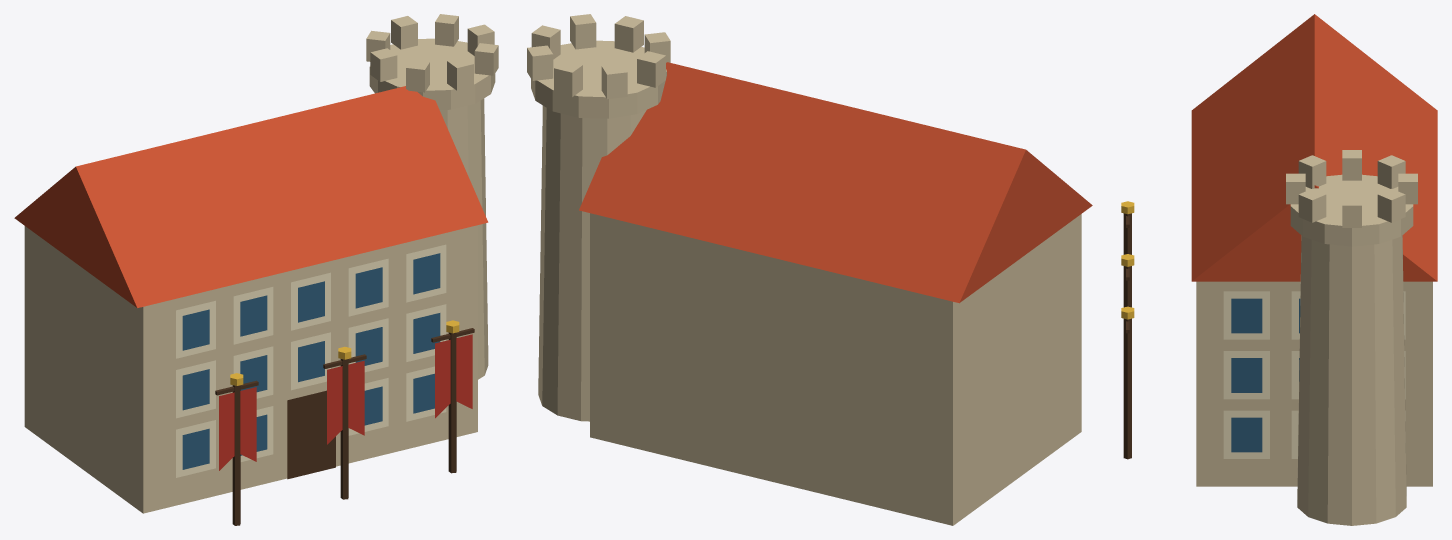
Rendered from building_military_academy.fbx.
3 renders of one model, left to right at view 1: azimuth 30°, elevation 25°; view 2: azimuth 150°, elevation 25°; view 3: azimuth 270°, elevation 25°, orthographic. The views are drawn at different scales.
Parts seen in each view (by area): view 1: building_military_academy; view 2: building_military_academy; view 3: building_military_academy.
Part boxes in pixels (box(x1,y1,x2,y2)): building_military_academy: box(14, 14, 498, 525); building_military_academy: box(527, 14, 1092, 525); building_military_academy: box(1121, 14, 1437, 525).
Size of the model in its own units: 80.07 by 57.5 by 50.79.
